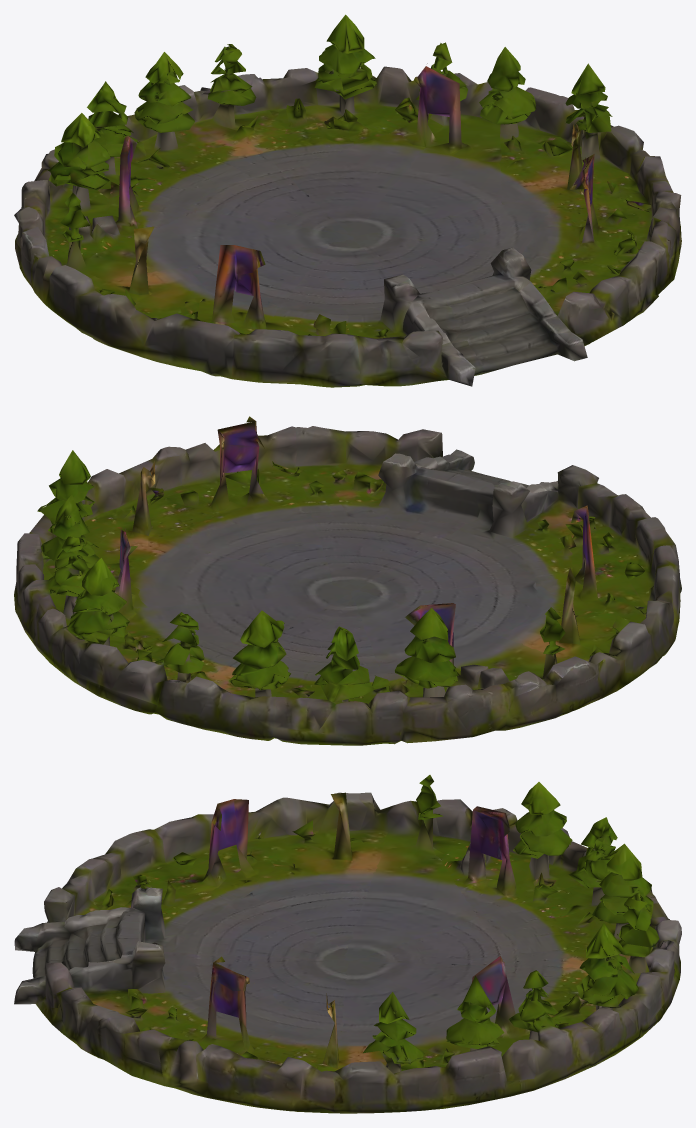
The model's file is arena.glb.
The picture shows the model from 3 angles, top to bottom: view 1: azimuth 30°, elevation 25°; view 2: azimuth 150°, elevation 25°; view 3: azimuth 270°, elevation 25°; orthographic projection.
Visible parts, largest first — view 1: tripo_node_2b07f4e2-17cb-4579-b59f-d3299907923e; view 2: tripo_node_2b07f4e2-17cb-4579-b59f-d3299907923e; view 3: tripo_node_2b07f4e2-17cb-4579-b59f-d3299907923e.
Boxes of the visible parts, box(x1,y1,x2,y2) form: tripo_node_2b07f4e2-17cb-4579-b59f-d3299907923e: box(14, 14, 681, 387); tripo_node_2b07f4e2-17cb-4579-b59f-d3299907923e: box(14, 416, 681, 745); tripo_node_2b07f4e2-17cb-4579-b59f-d3299907923e: box(14, 775, 681, 1113).
Bounding box in the file's own units: 0.9916 × 0.1828 × 0.9994.
Materials: 1 (1 with a texture image).
